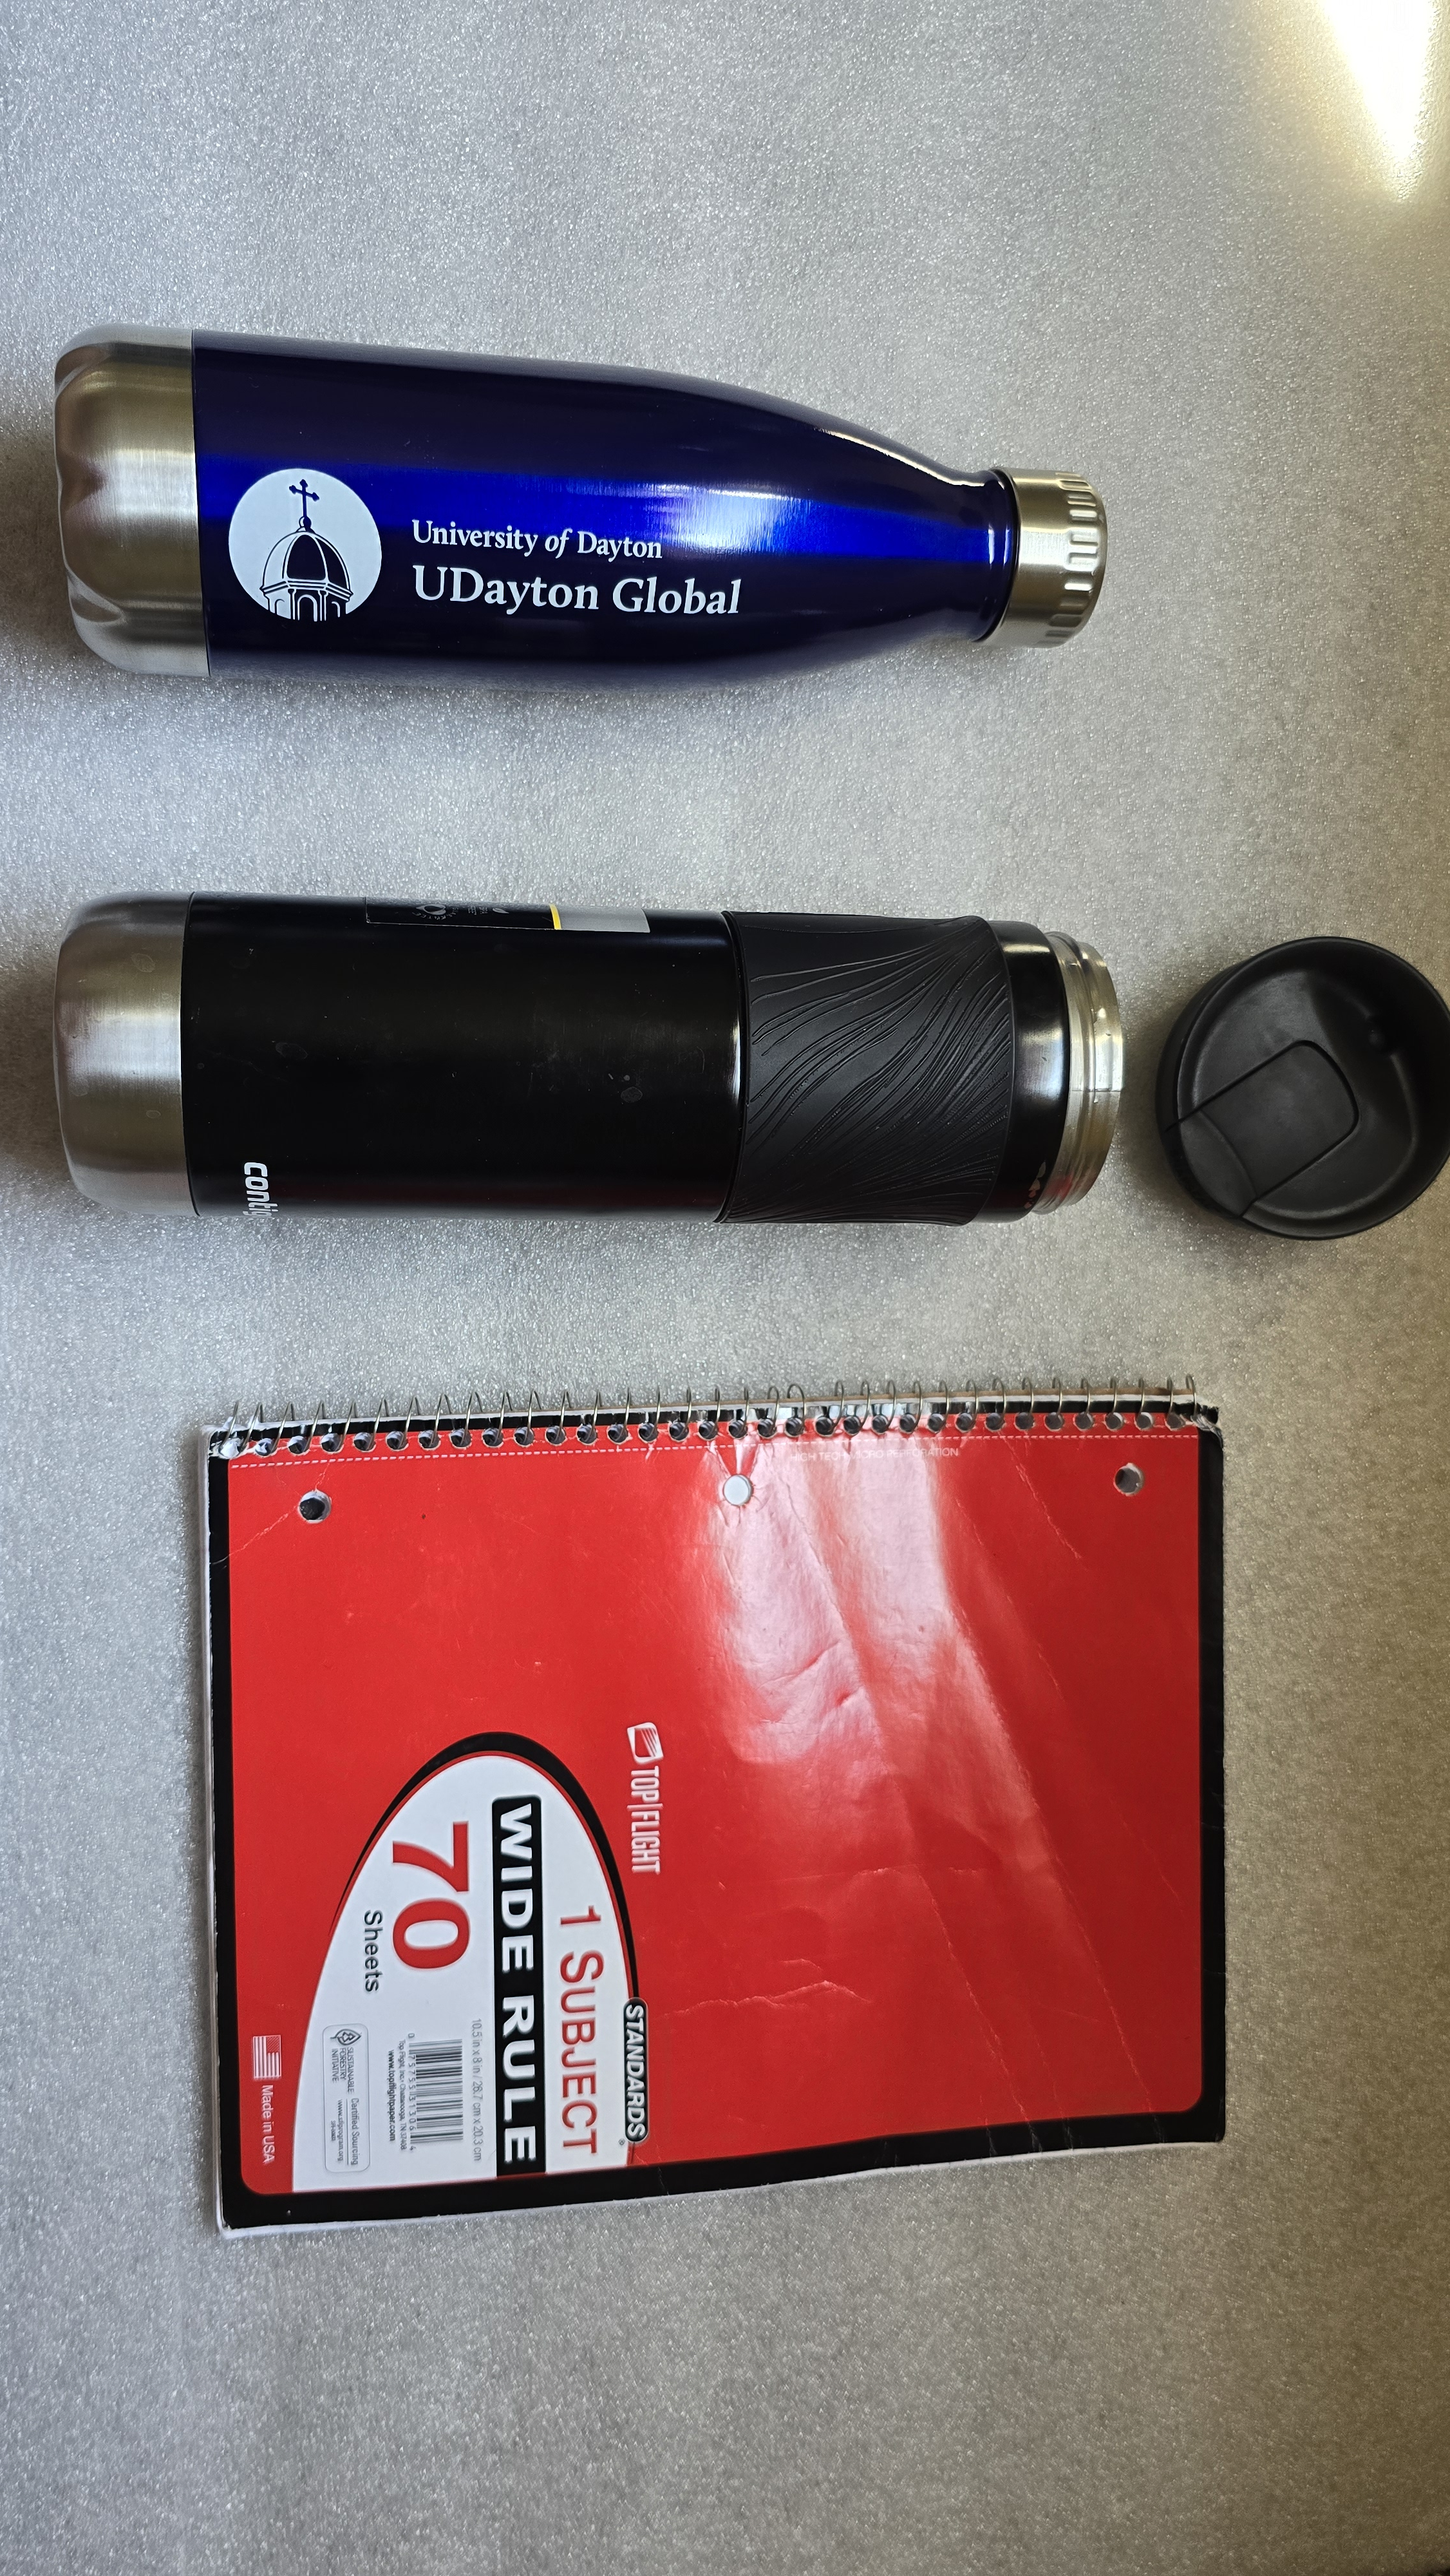bottle: (26, 306, 1163, 730), (28, 877, 1147, 1261)
